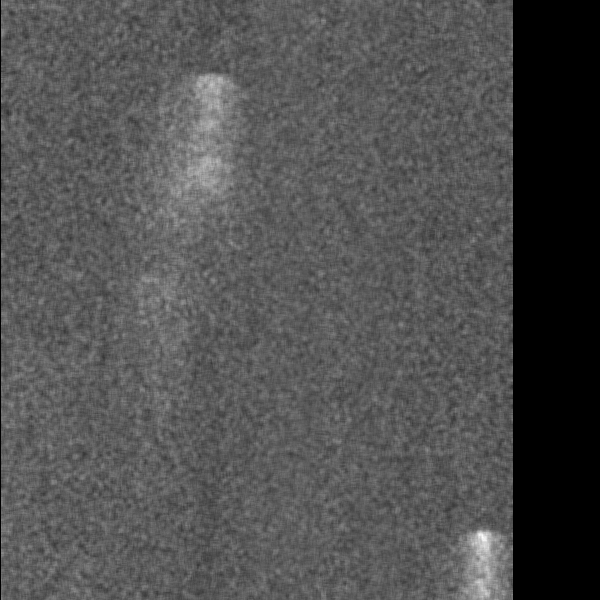spark: (186, 70, 238, 262), (460, 525, 504, 596), (131, 269, 171, 288)
